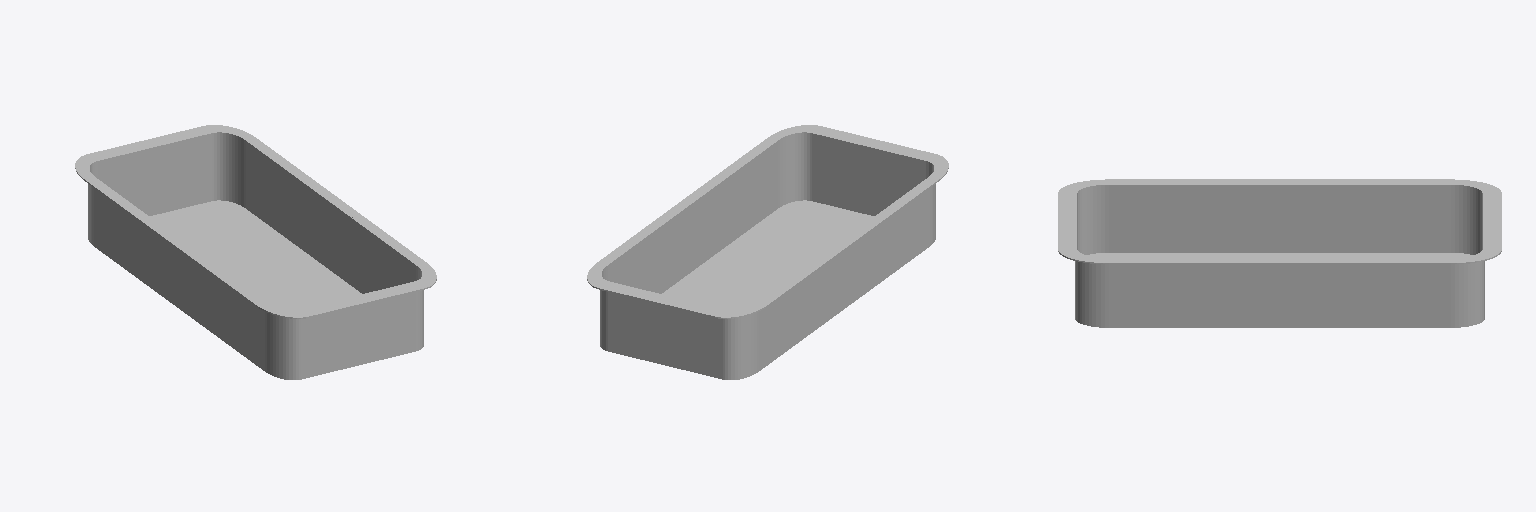
File: Weegbakje2.obj
The picture shows the model from 3 angles: view 1: azimuth 30°, elevation 25°; view 2: azimuth 150°, elevation 25°; view 3: azimuth 270°, elevation 25°; orthographic projection.
Visible parts, largest first — view 1: Mesh1 Group1 Model; view 2: Mesh1 Group1 Model; view 3: Mesh1 Group1 Model.
Part boxes in pixels (left/top/right/bottom): Mesh1 Group1 Model: left=75, top=125, right=436, bottom=379; Mesh1 Group1 Model: left=587, top=125, right=948, bottom=379; Mesh1 Group1 Model: left=1058, top=179, right=1501, bottom=327.
Bounding box in the file's own units: 4.5 × 1.74 × 10.07.